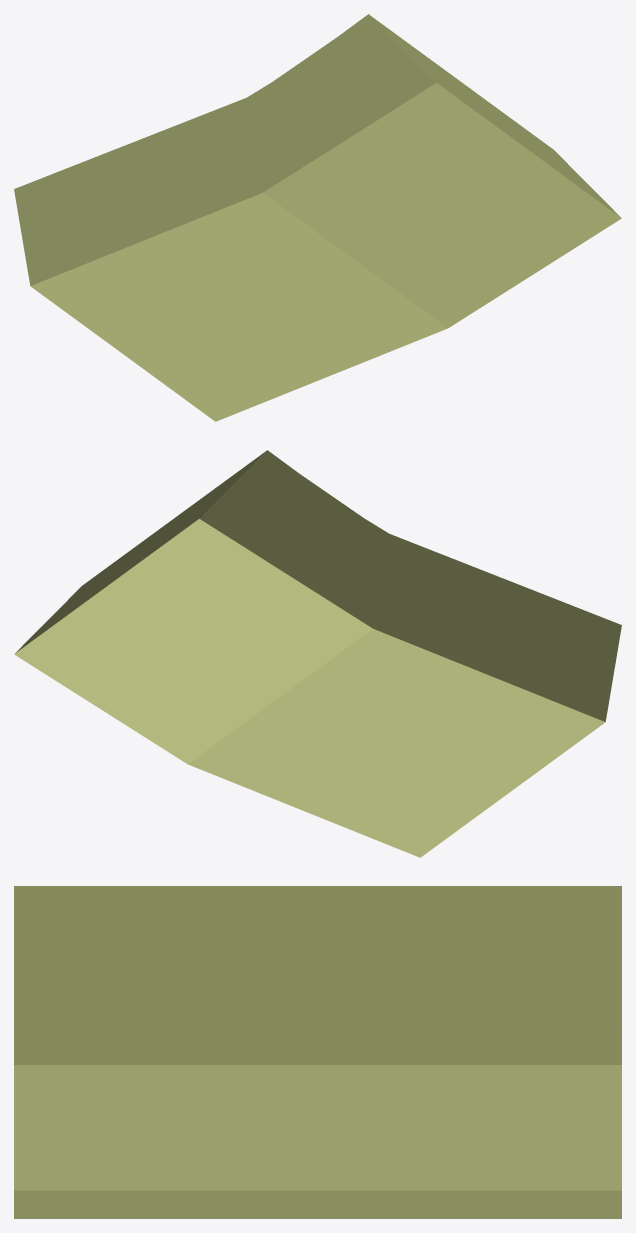
The picture shows the model from 3 angles, top to bottom: view 1: azimuth 30°, elevation 25°; view 2: azimuth 150°, elevation 25°; view 3: azimuth 270°, elevation 25°; orthographic projection. The views are drawn at different scales.
Visible parts, largest first — view 1: 0_1_3_2_1_1_2_0_0_2; view 2: 0_1_3_2_1_1_2_0_0_2; view 3: 0_1_3_2_1_1_2_0_0_2.
Part boxes in pixels (bbox=[...]): 0_1_3_2_1_1_2_0_0_2: bbox=[14, 14, 621, 421]; 0_1_3_2_1_1_2_0_0_2: bbox=[14, 450, 621, 857]; 0_1_3_2_1_1_2_0_0_2: bbox=[14, 886, 621, 1218].
Bounding box in the file's own units: 11.85 × 5.08 × 9.
